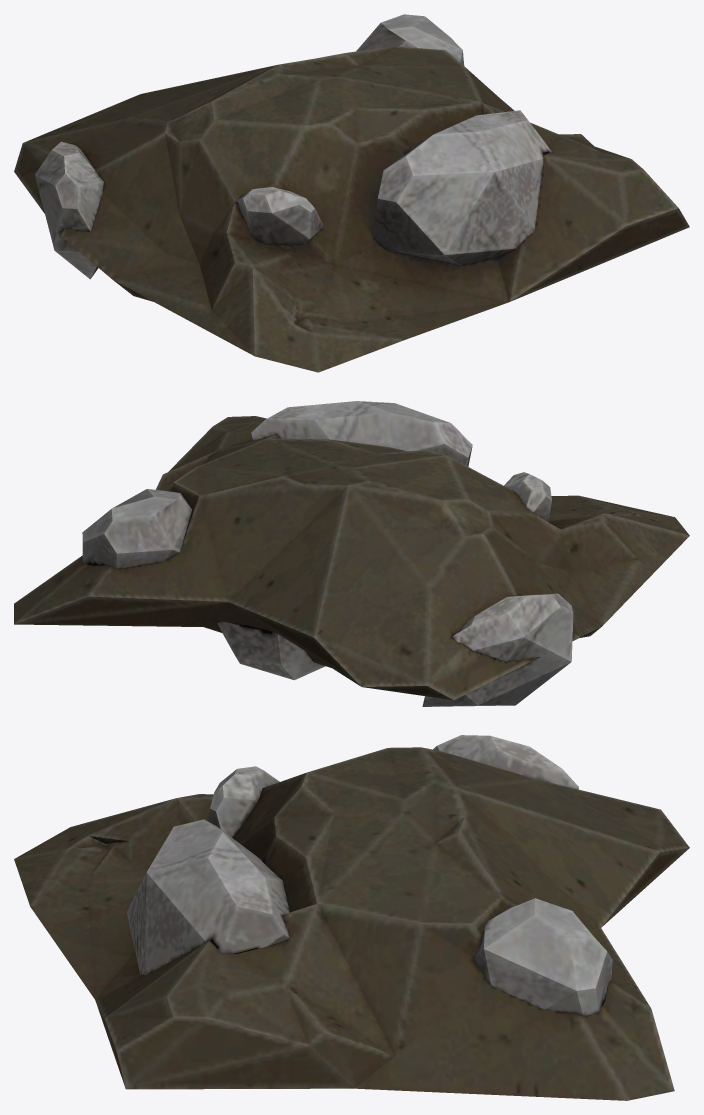
The model's file is SlagJunkCast.glb.
3 renders of one model, top to bottom at view 1: azimuth 30°, elevation 25°; view 2: azimuth 150°, elevation 25°; view 3: azimuth 270°, elevation 25°, orthographic. The views are drawn at different scales.
Visible parts, largest first — view 1: SlagJunkCast; view 2: SlagJunkCast; view 3: SlagJunkCast.
Boxes of the visible parts, left/top/right/bottom form: SlagJunkCast: left=14, top=14, right=689, bottom=372; SlagJunkCast: left=14, top=401, right=689, bottom=706; SlagJunkCast: left=14, top=735, right=689, bottom=1100.
Bounding box in the file's own units: 0.5626 × 0.1901 × 0.5611.
Materials: 1 (1 with a texture image).
